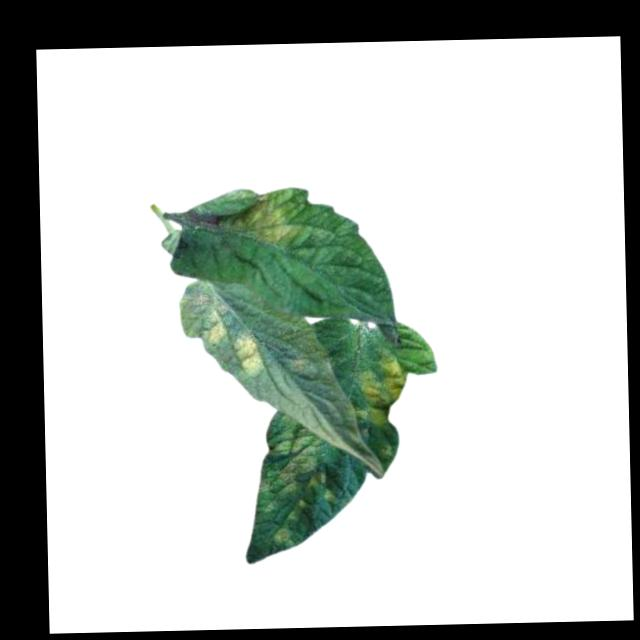Leaf_Mold: (353, 354, 408, 431), (227, 191, 295, 252), (267, 424, 324, 483), (229, 329, 264, 383), (197, 310, 226, 349)
